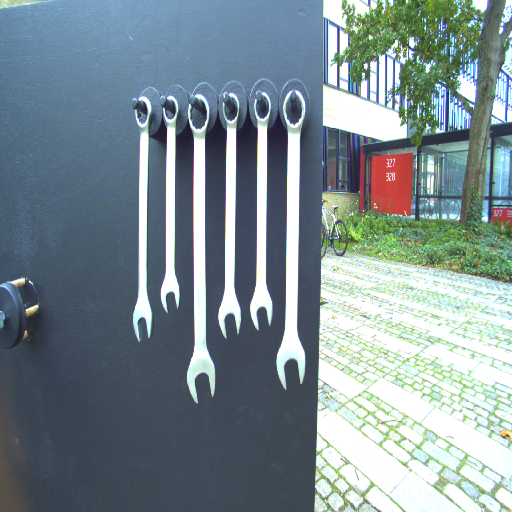bottom: (274, 335, 308, 389), (185, 351, 219, 404), (215, 296, 244, 342), (131, 295, 157, 344), (249, 288, 275, 331), (159, 272, 182, 315)
top: (281, 89, 308, 134), (186, 92, 211, 136), (251, 89, 274, 129), (132, 94, 156, 132), (218, 92, 244, 126), (160, 95, 181, 129)
